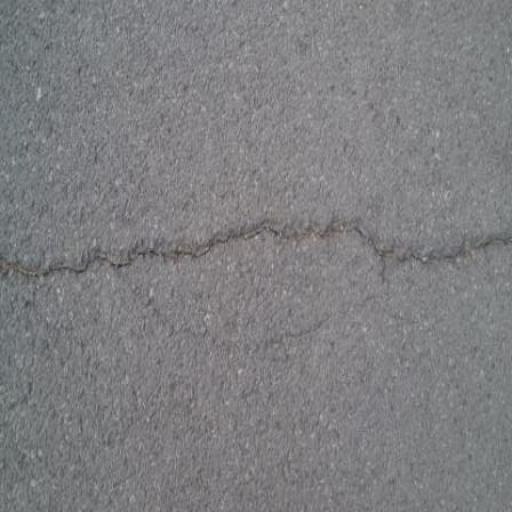spalling: (7, 204, 504, 291)
